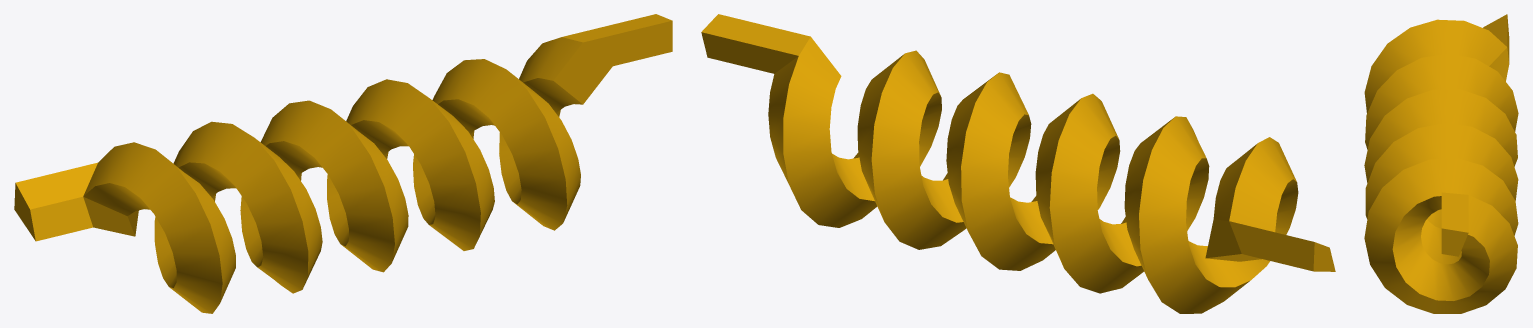
Rendered from Fusivel.fbx.
The picture shows the model from 3 angles, left to right: view 1: azimuth 30°, elevation 25°; view 2: azimuth 150°, elevation 25°; view 3: azimuth 270°, elevation 25°; orthographic projection. The views are drawn at different scales.
Parts seen in each view (by area): view 1: pHelix2; view 2: pHelix2; view 3: pHelix2.
Part boxes in pixels (left/top/right/bottom): pHelix2: left=14, top=14, right=672, bottom=313; pHelix2: left=701, top=14, right=1335, bottom=313; pHelix2: left=1364, top=14, right=1518, bottom=313.
Size of the model in its own units: 0.3412 by 0.0897 by 0.0897.
